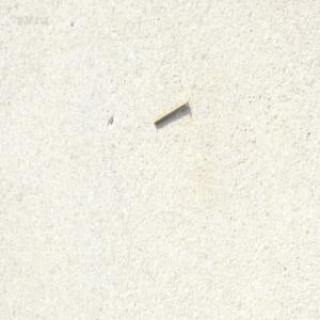Bolttrack_idkeyframe: (152, 96, 187, 125)
